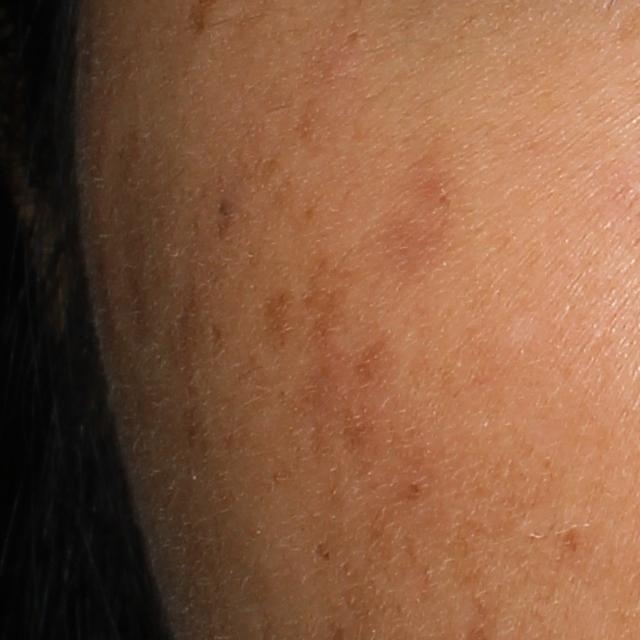melasma: (285, 248, 412, 463), (351, 158, 467, 295), (258, 285, 298, 353), (228, 152, 284, 191), (211, 192, 249, 248)
